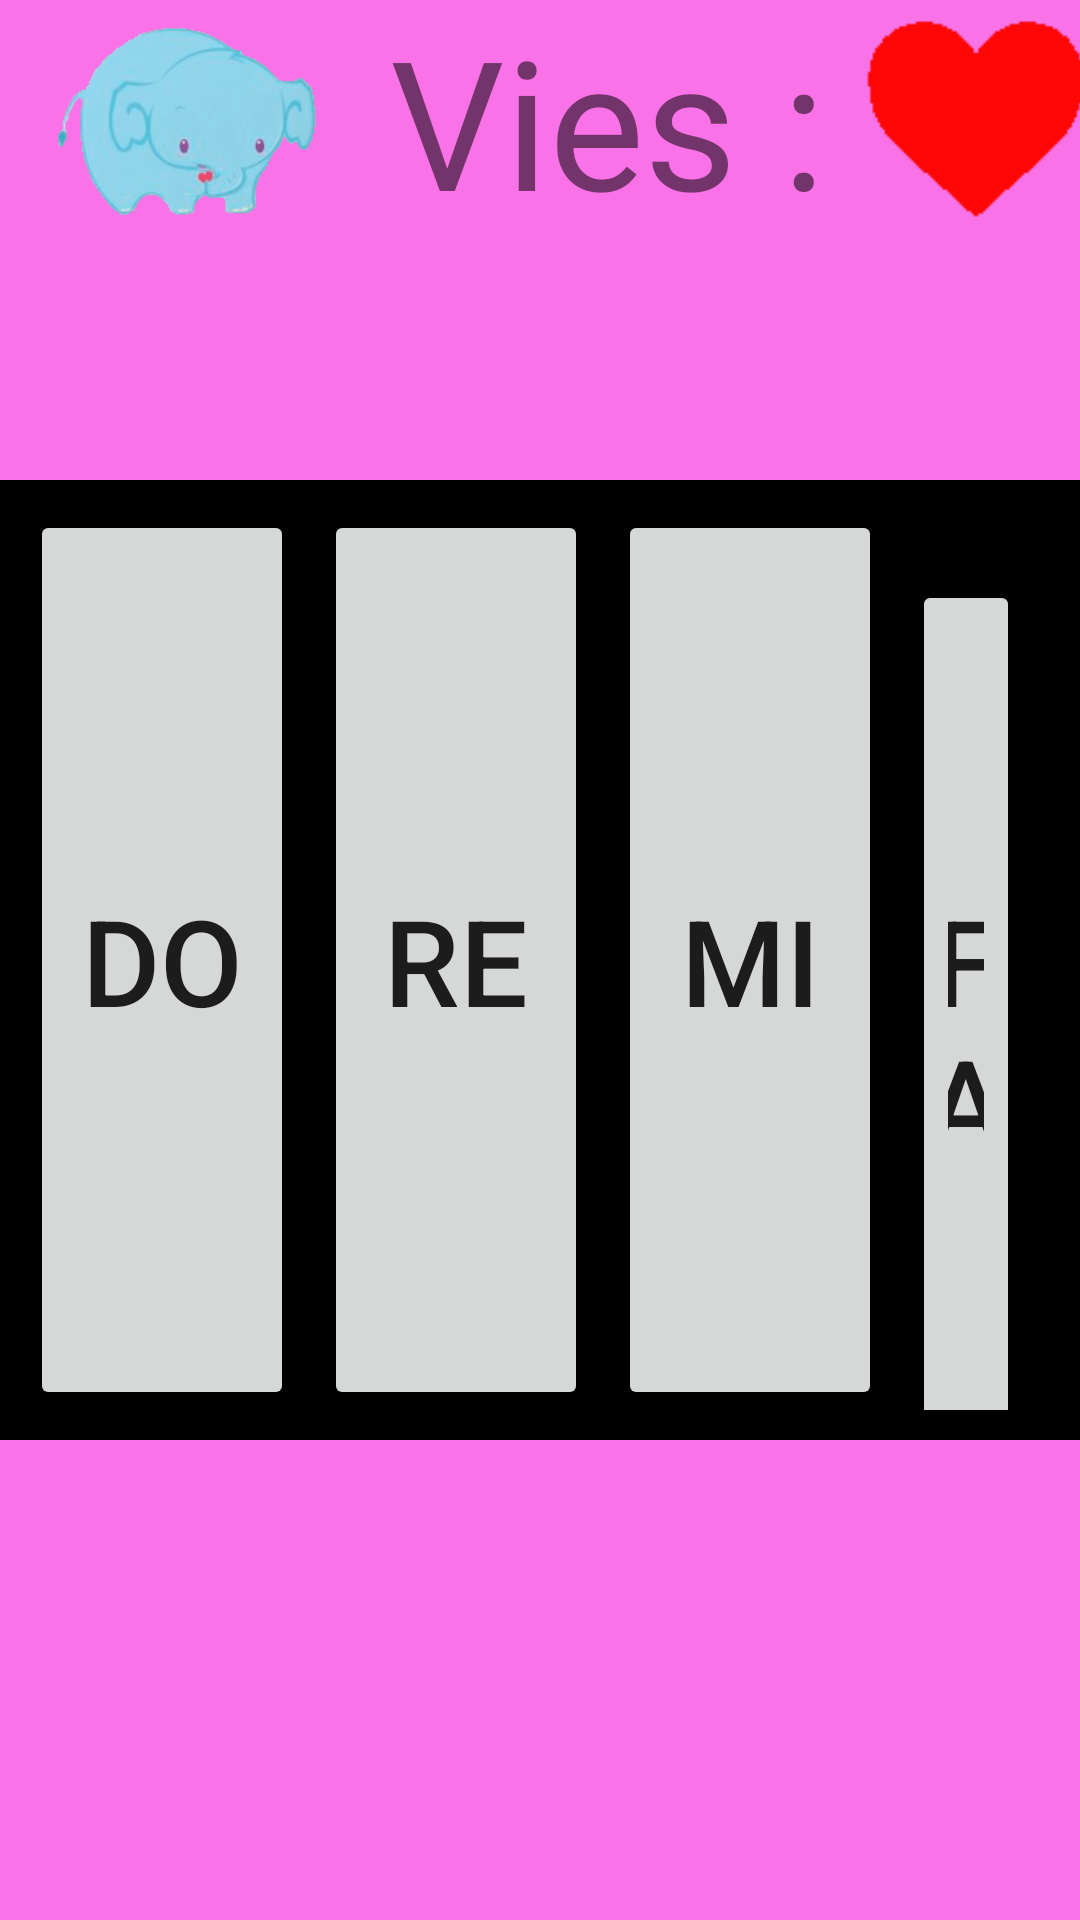

Where to tap for icons on this 1080w x 1920h app screen, as (x,y):
Image coeur: (973,119)
Image éléphant: (187,121)
